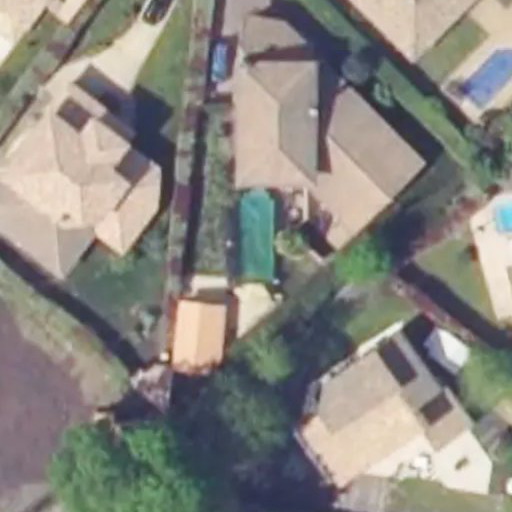pool: (236, 191, 275, 292)
